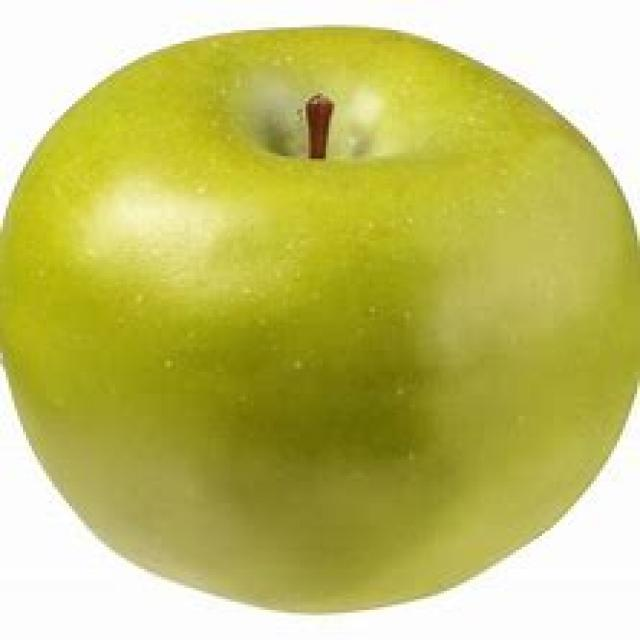Apple: (0, 29, 640, 623)
